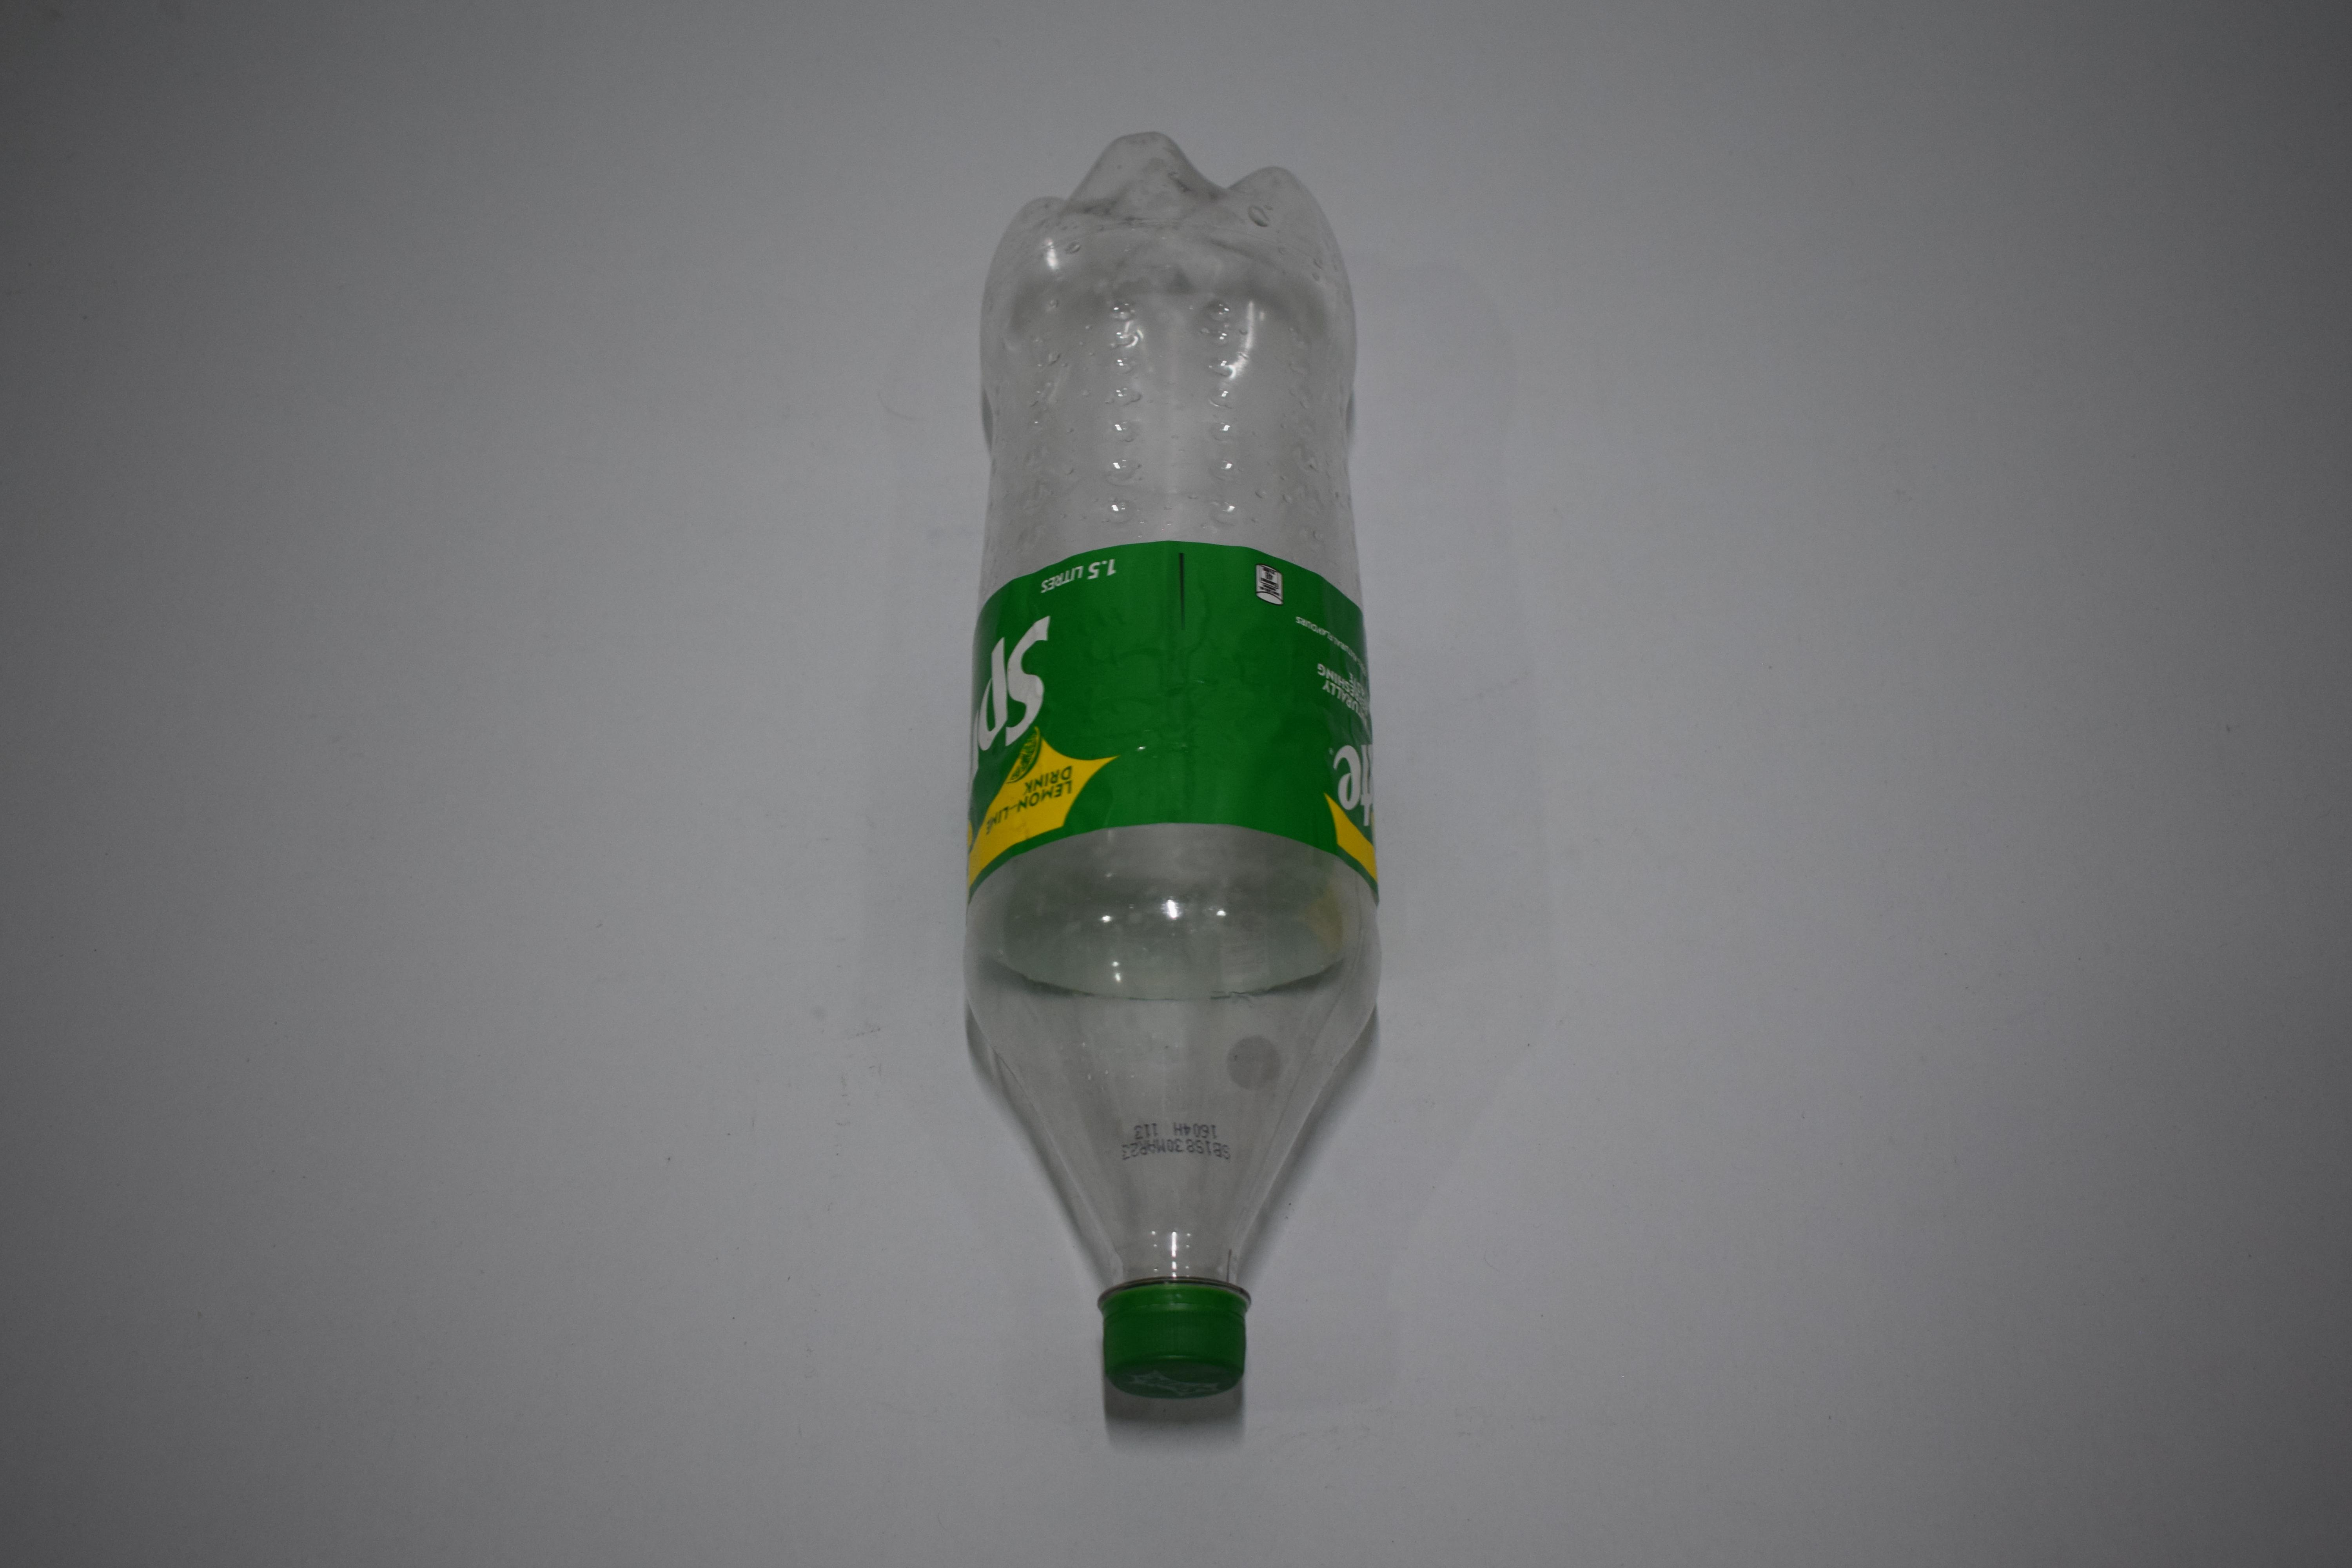bottle: (949, 121, 1388, 1407)
